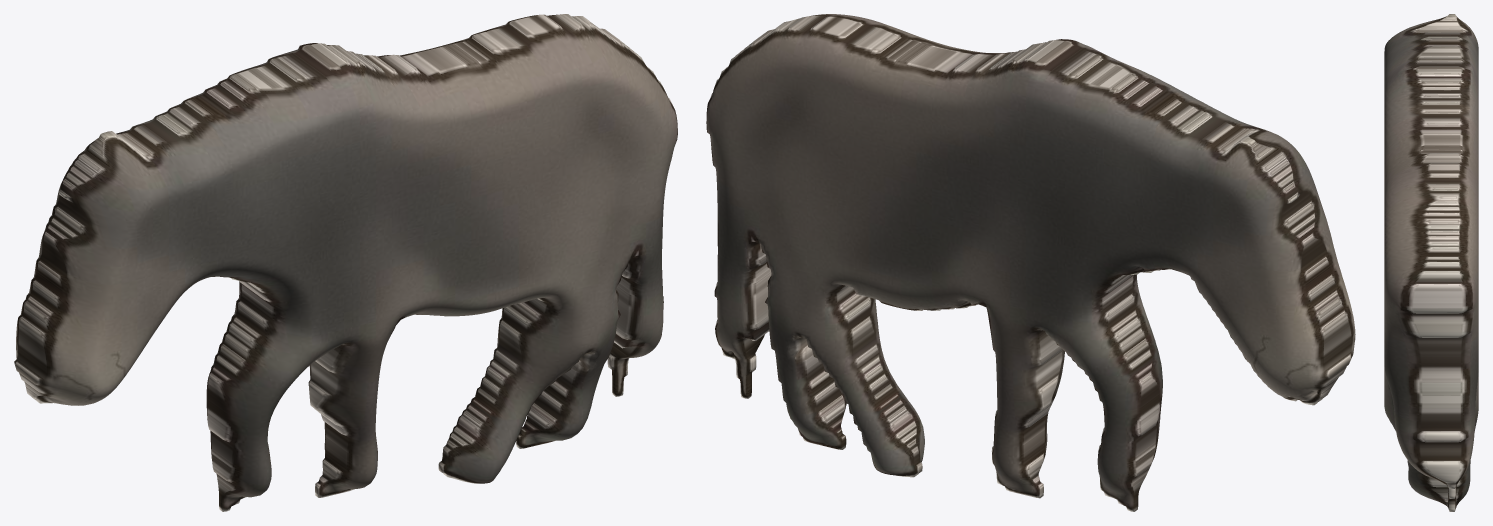
File: horse_121483510.glb
The picture shows the model from 3 angles, left to right: view 1: azimuth 30°, elevation 25°; view 2: azimuth 150°, elevation 25°; view 3: azimuth 270°, elevation 25°; orthographic projection. The views are drawn at different scales.
Parts seen in each view (by area): view 1: horse_121483510; view 2: horse_121483510; view 3: horse_121483510.
Part boxes in pixels (x1,y1,x2,y2): horse_121483510: [14, 14, 677, 511]; horse_121483510: [706, 14, 1355, 511]; horse_121483510: [1384, 14, 1478, 511].
Size of the model in its own units: 1.97 by 1.37 by 0.3276.
1 material, 1 textured.
